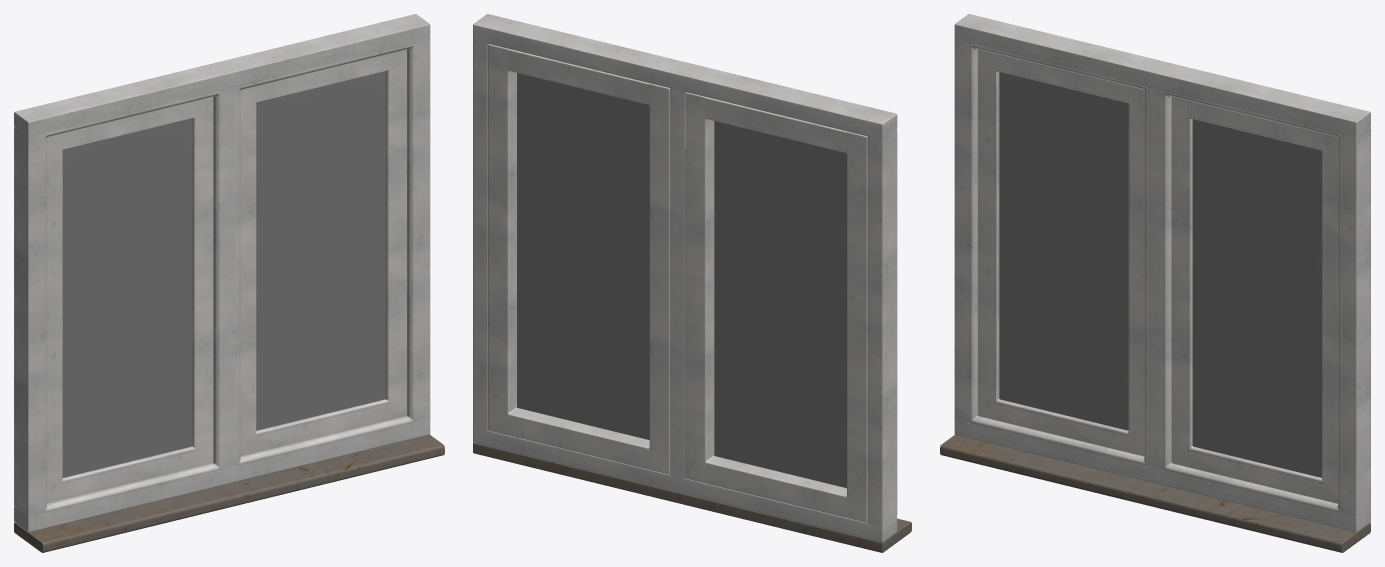
The picture shows the model from 3 angles, left to right: view 1: azimuth 30°, elevation 25°; view 2: azimuth 150°, elevation 25°; view 3: azimuth 330°, elevation 25°; orthographic projection.
Parts seen in each view (by area): view 1: PanelBuilding_DZE_0; view 2: PanelBuilding_DZE_0; view 3: PanelBuilding_DZE_0.
Part boxes in pixels (x1,y1,x2,y2): PanelBuilding_DZE_0: [14, 14, 444, 552]; PanelBuilding_DZE_0: [473, 14, 911, 552]; PanelBuilding_DZE_0: [940, 14, 1370, 552].
Size of the model in its own units: 1.6 by 1.6 by 0.202.
1 material, 1 textured.
